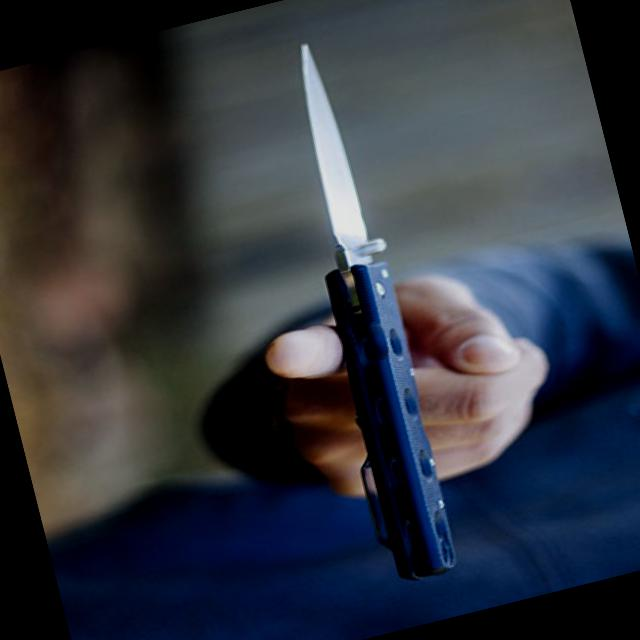knife: (182, 0, 558, 433)
